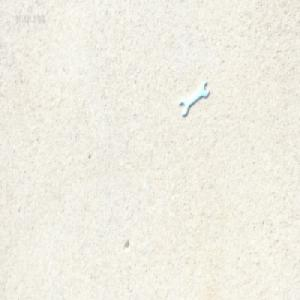Wrench: (180, 81, 209, 116)
